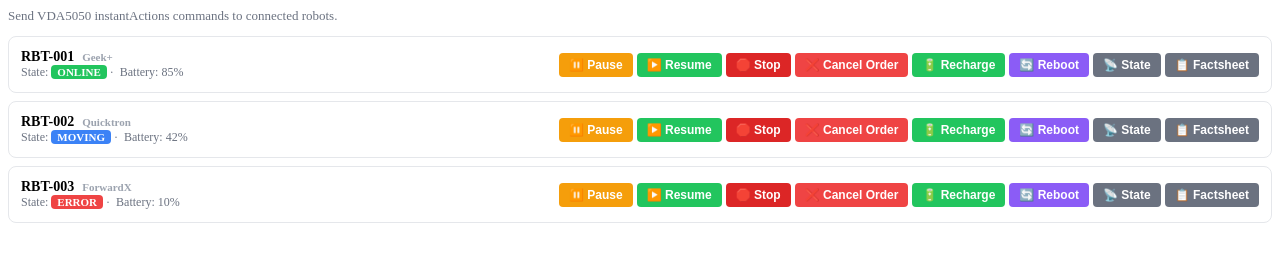
Scenario: CommandPanel — 指令下发控制台 › shows error result when command API returns error
The width and height of the screenshot is (1280, 271).
Expected: the text "RBT-001" is shown, [21, 49, 74, 64]
Click the button "⏸️ Pause" in the row of "85%" at (596, 64), box [559, 52, 633, 76]
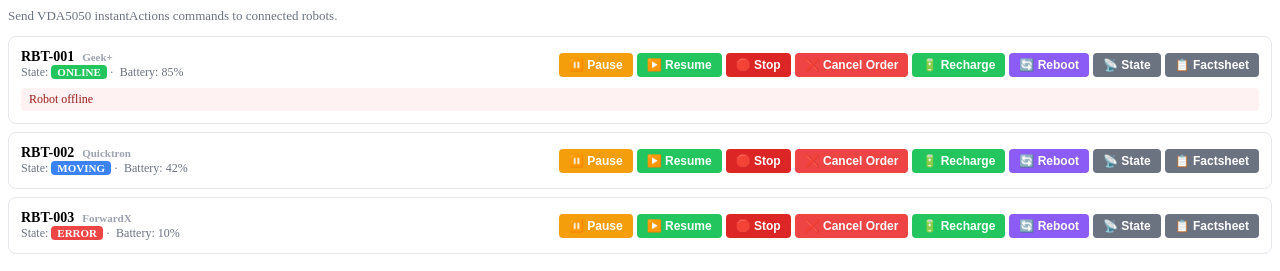
Expected: the text "Robot offline" is shown, [21, 88, 1259, 111]
